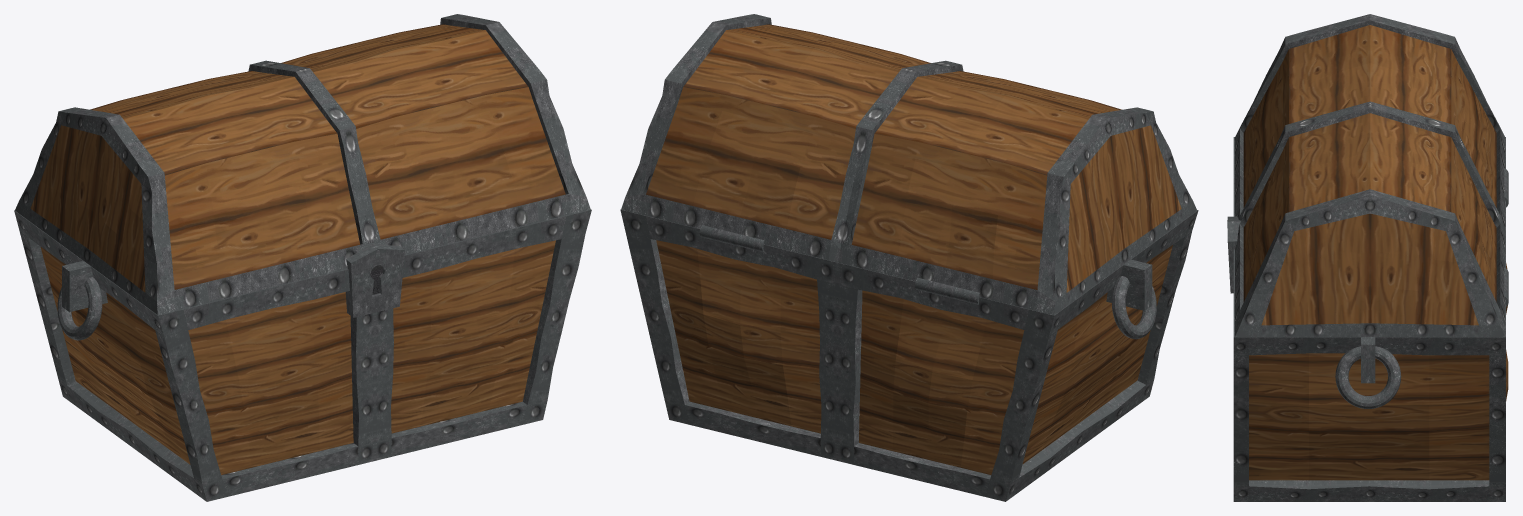
Rendered from baú.fbx.
The picture shows the model from 3 angles, left to right: view 1: azimuth 30°, elevation 25°; view 2: azimuth 150°, elevation 25°; view 3: azimuth 270°, elevation 25°; orthographic projection. The views are drawn at different scales.
Visible parts, largest first — view 1: Cylinder, Cube, Cube.003; view 2: Cylinder, Cube, Cube.003; view 3: Cylinder, Cube, Cube.004.
Part boxes in pixels (x1,y1,x2,y2): Cylinder: (15,14,590,314); Cube: (14,209,591,501); Cube.003: (57,260,107,340); Cylinder: (621,14,1197,315); Cube: (620,209,1198,501); Cube.003: (1106,259,1156,339); Cylinder: (1235,14,1508,336); Cube: (1227,137,1508,501); Cube.004: (1335,337,1401,408).
Bounding box in the file's own units: 602 × 413 × 329.
Materials: 10 (10 with a texture image).
